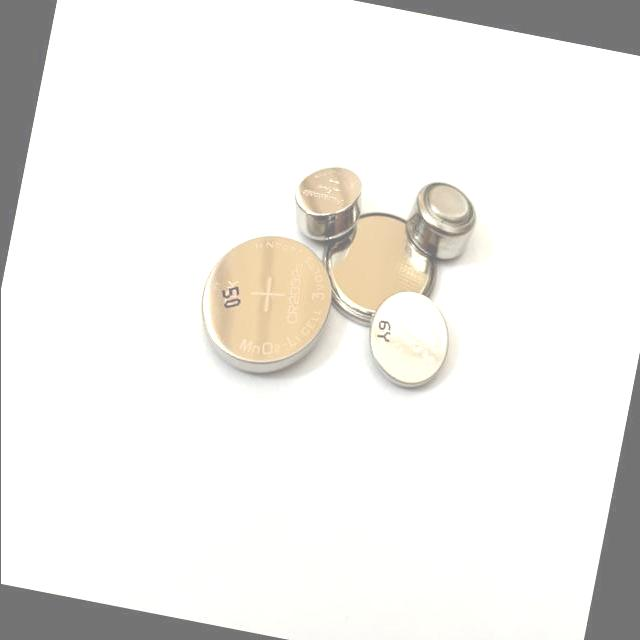COIN: (188, 222, 342, 382), (308, 202, 448, 341), (362, 284, 458, 398), (400, 174, 484, 268), (287, 158, 370, 250)
